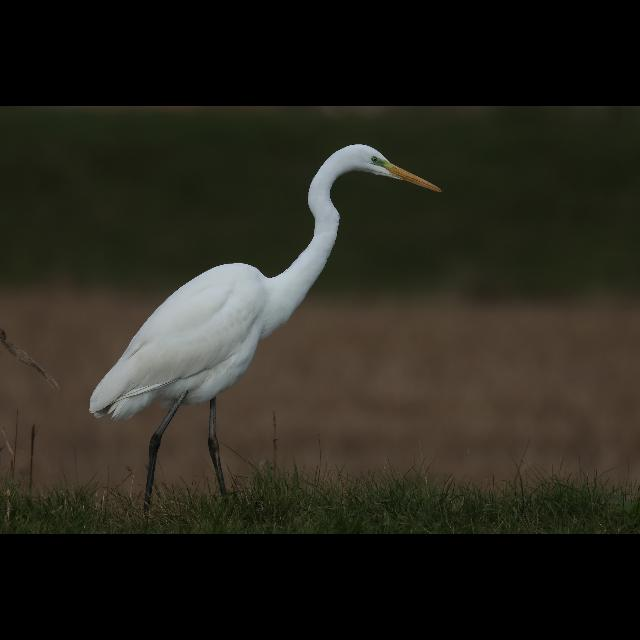egret: (87, 138, 446, 502)
